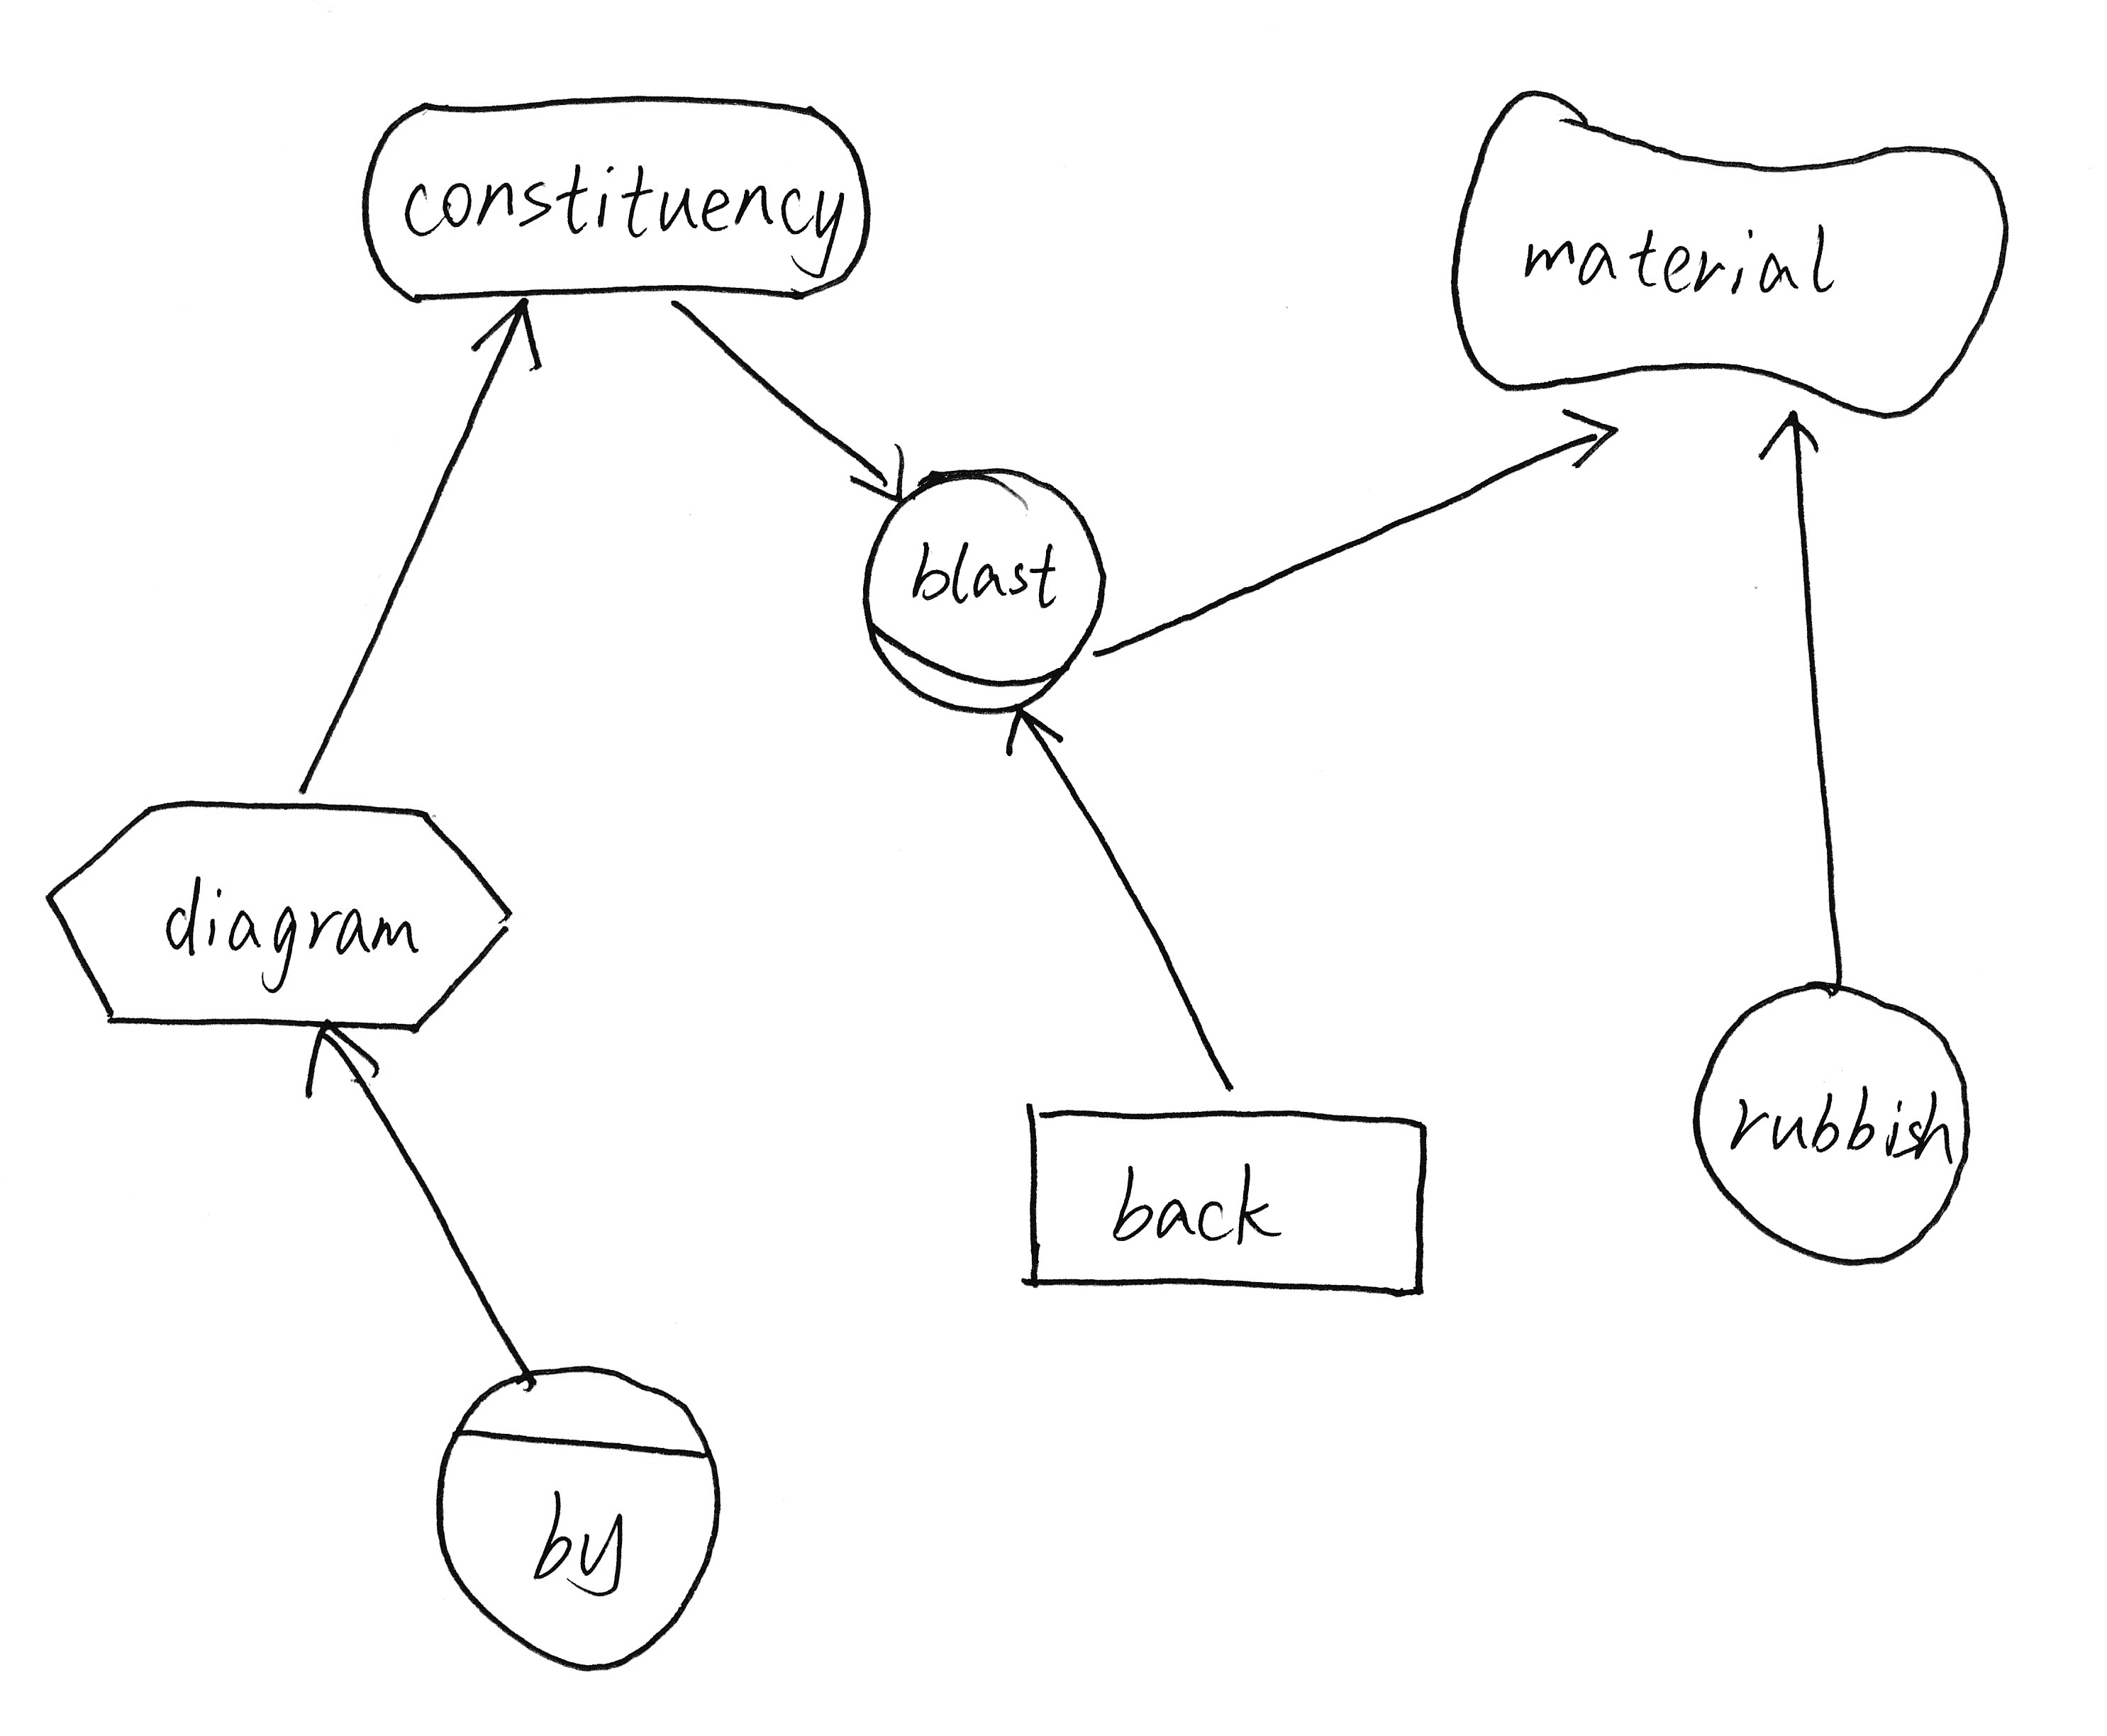actor: (1676, 962, 1988, 1283)
agent: (416, 1351, 744, 1683)
arrow: (292, 1006, 390, 1102), (467, 282, 553, 380), (989, 691, 1073, 767), (1748, 394, 1827, 469), (1556, 394, 1626, 478), (845, 434, 915, 507)
goal: (345, 72, 894, 322)
quality: (1437, 67, 2023, 438)
resource: (999, 1083, 1451, 1318)
role: (850, 450, 1122, 730)
task: (23, 777, 528, 1057)
